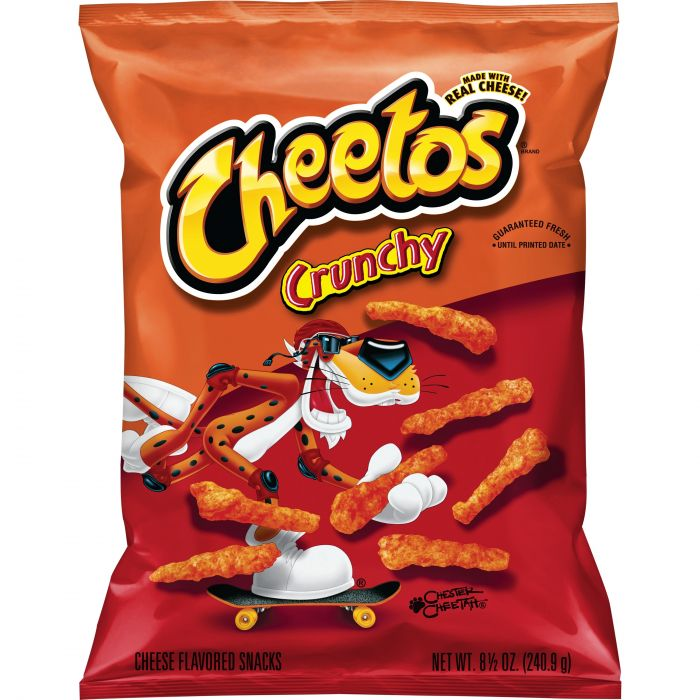cheetos: (73, 4, 621, 694)
